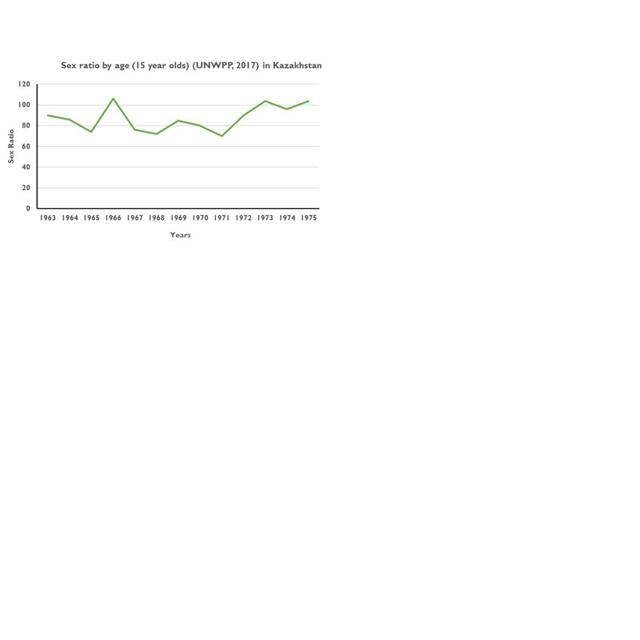Graph: (2, 54, 329, 244)
